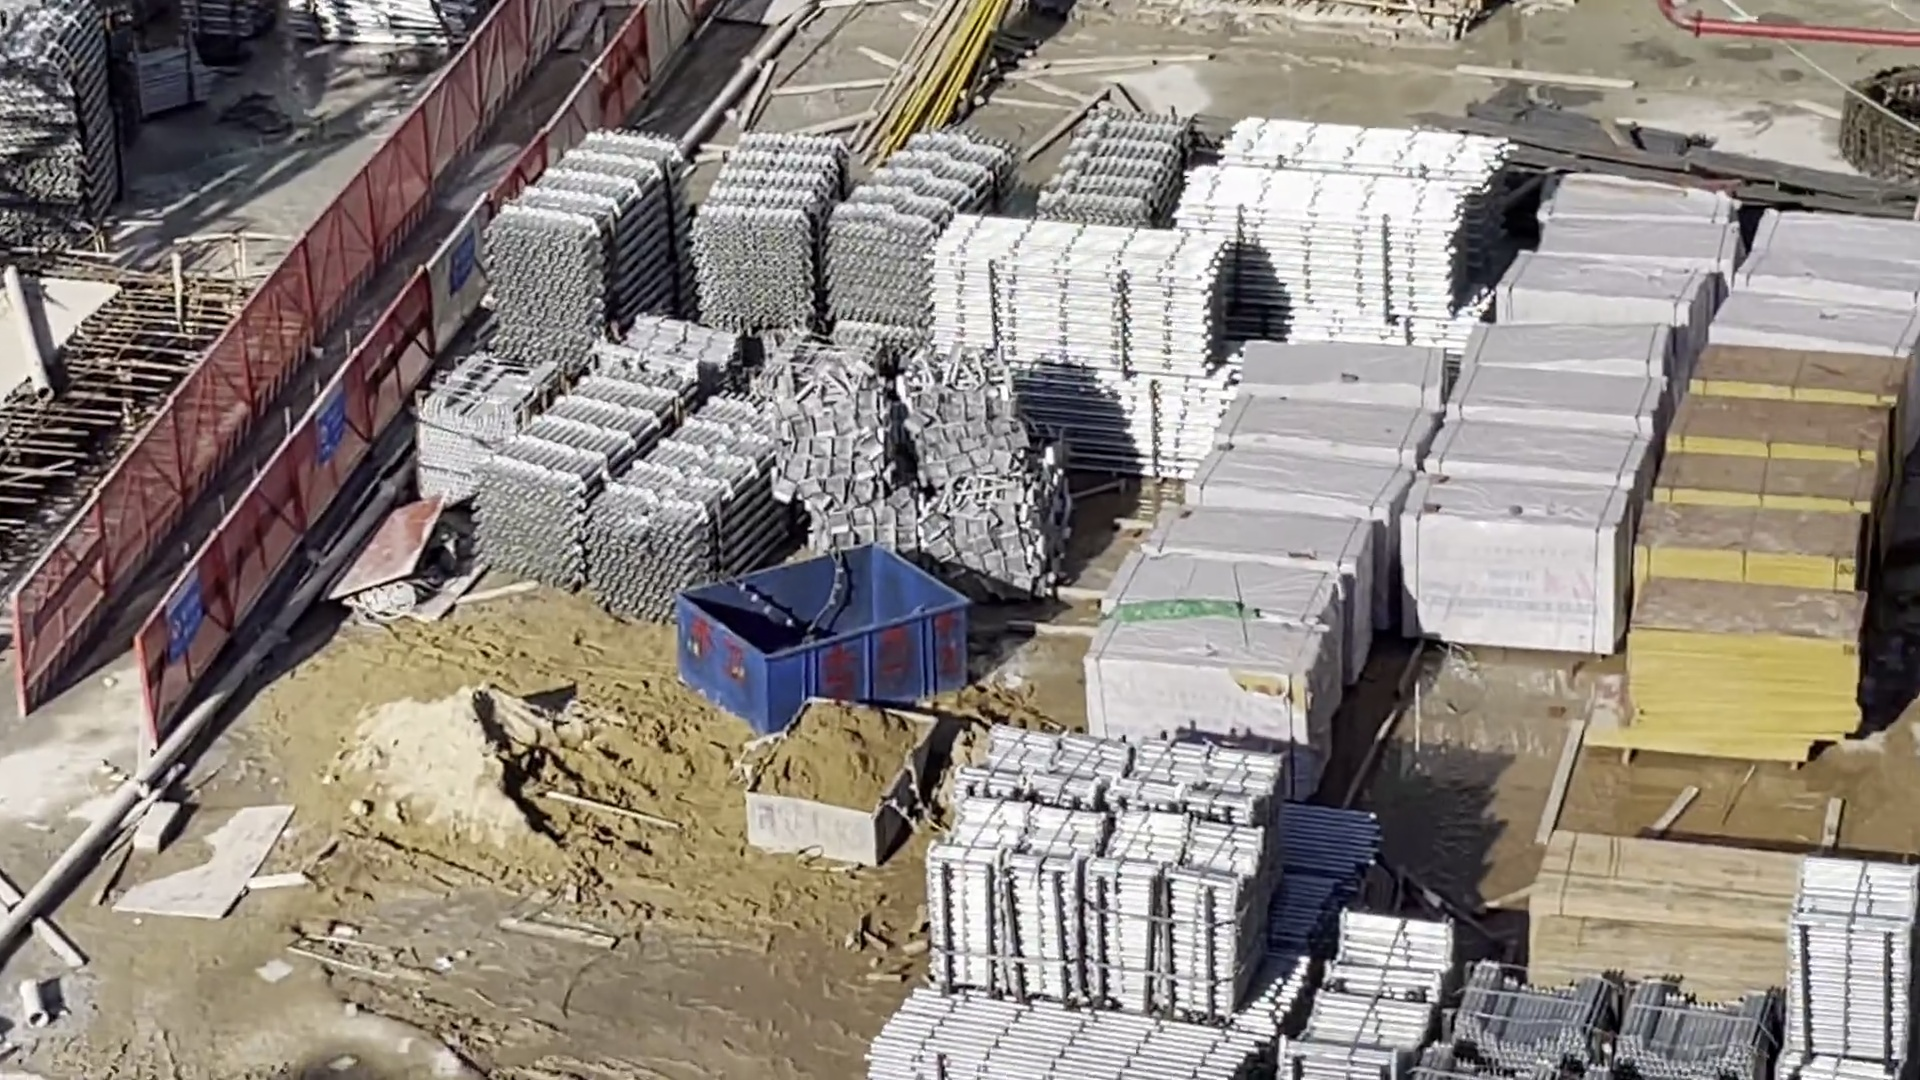board: (1640, 349, 1870, 750), (1540, 837, 1792, 985)
fence: (24, 7, 632, 688)
hopper: (679, 545, 969, 735), (748, 700, 936, 865)
rebar: (1538, 131, 1908, 229)
scaffold: (943, 731, 1282, 1011), (939, 219, 1228, 458), (483, 388, 796, 600), (1183, 124, 1516, 318), (696, 135, 1015, 334), (493, 138, 688, 342), (1452, 972, 1770, 1080), (865, 997, 1262, 1076), (1298, 909, 1455, 1077), (1789, 860, 1904, 1080), (5, 7, 117, 223), (1044, 111, 1178, 229), (294, 1, 469, 45)
slogan: (165, 574, 198, 666), (316, 385, 344, 464)
